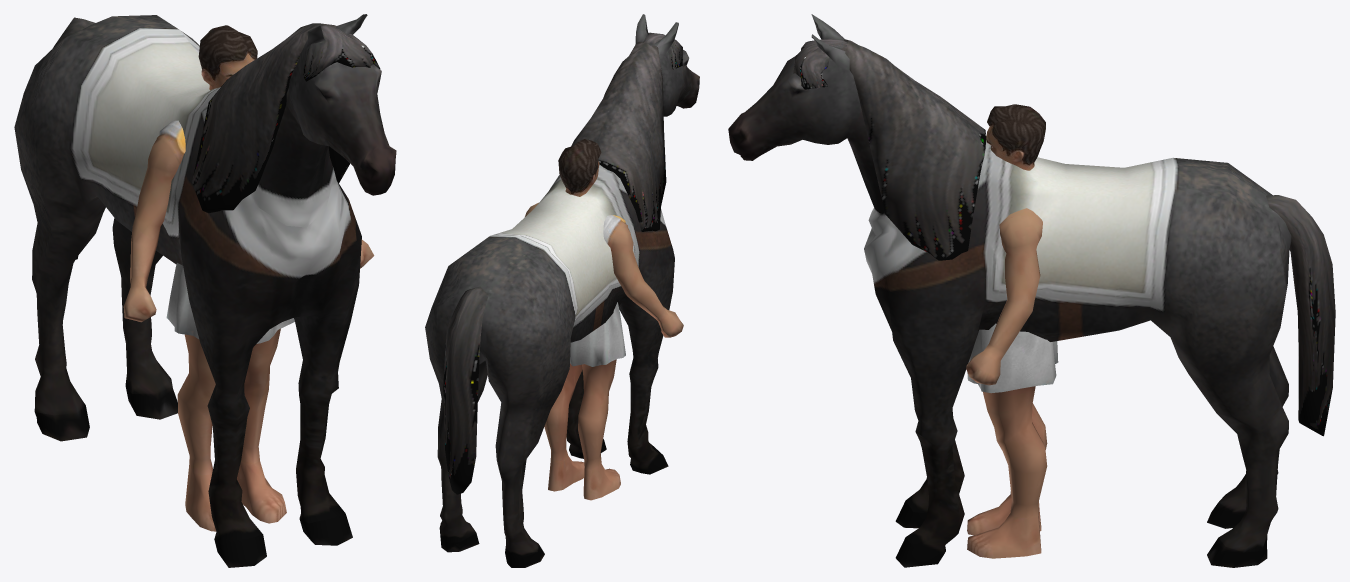
The model's file is 203-kataskopos.glb.
The picture shows the model from 3 angles, left to right: view 1: azimuth 30°, elevation 25°; view 2: azimuth 150°, elevation 25°; view 3: azimuth 270°, elevation 25°; orthographic projection. The views are drawn at different scales.
Bounding box in the file's own units: 1.14 × 2.52 × 2.69.
Materials: 2 (2 with a texture image).
